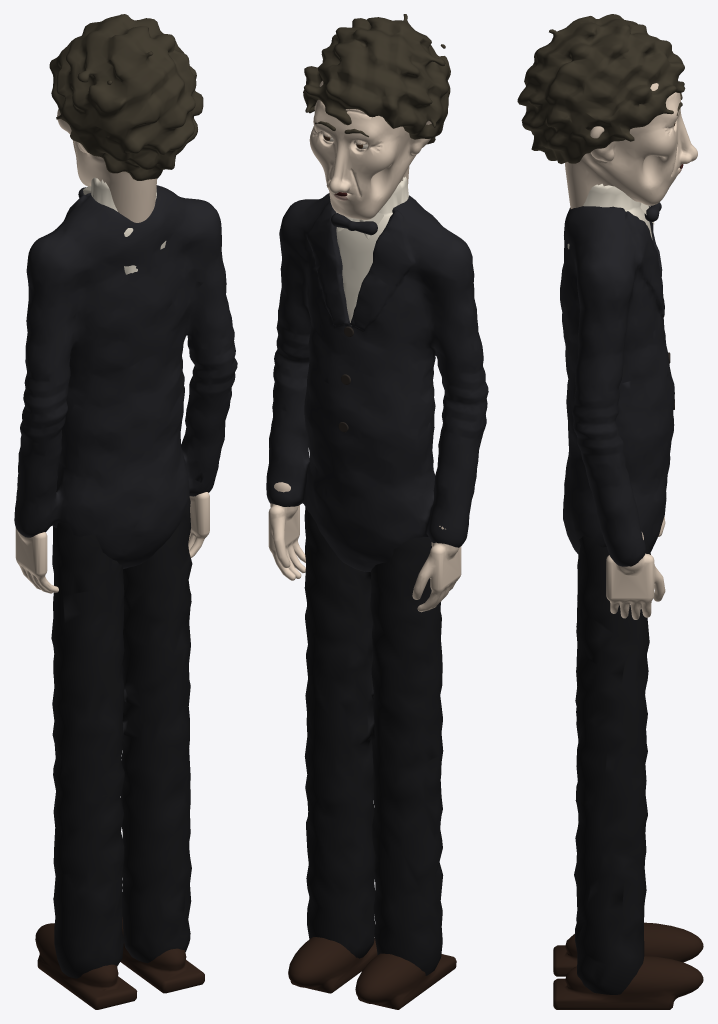
The model's file is spratt.fbx.
3 renders of one model, left to right at view 1: azimuth 30°, elevation 25°; view 2: azimuth 150°, elevation 25°; view 3: azimuth 270°, elevation 25°, orthographic.
Parts seen in each view (by area): view 1: Body, Head, HandR, HandL; view 2: Body, Head, HandL, HandR; view 3: Body, Head, HandL.
Boxes of the visible parts, left/top/right/bottom form: Body: left=14, top=177, right=237, bottom=1009; Head: left=49, top=14, right=203, bottom=222; HandR: left=15, top=527, right=58, bottom=593; HandL: left=188, top=492, right=209, bottom=557; Body: left=266, top=176, right=488, bottom=1009; Head: left=303, top=14, right=450, bottom=219; HandL: left=268, top=482, right=305, bottom=580; HandR: left=412, top=526, right=461, bottom=612; Body: left=553, top=183, right=703, bottom=1009; Head: left=517, top=14, right=697, bottom=208; HandL: left=606, top=532, right=665, bottom=619.
Size of the model in its own units: 0.405 by 1.77 by 0.3097.
